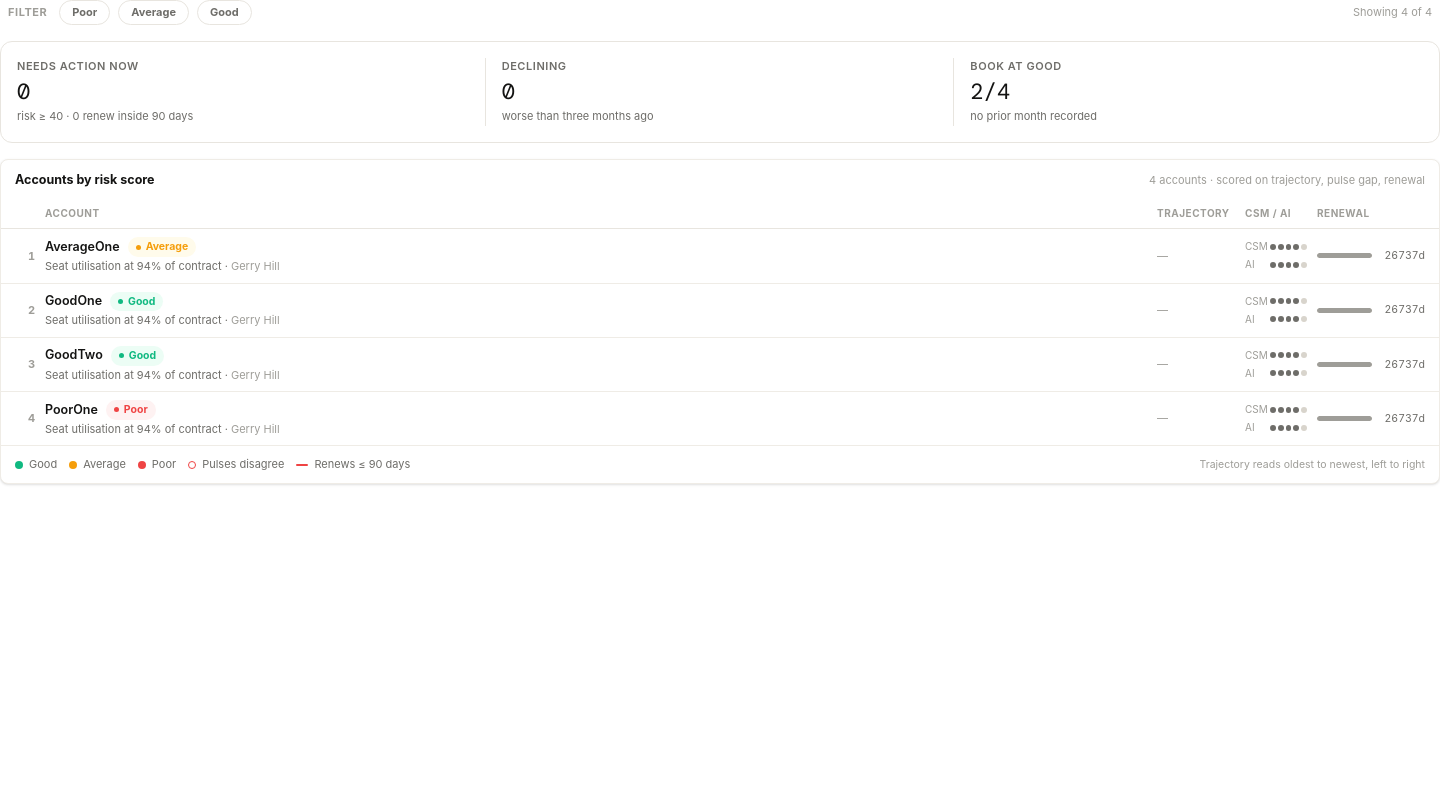
Test: TriageView drill › "Book at Good" opens exactly the accounts currently at Good
This screenshot has width=1440, height=810.
Click the button with aria-label "Book at Good 2/4, show accounts" at (1016, 66), box [966,54,1403,128]
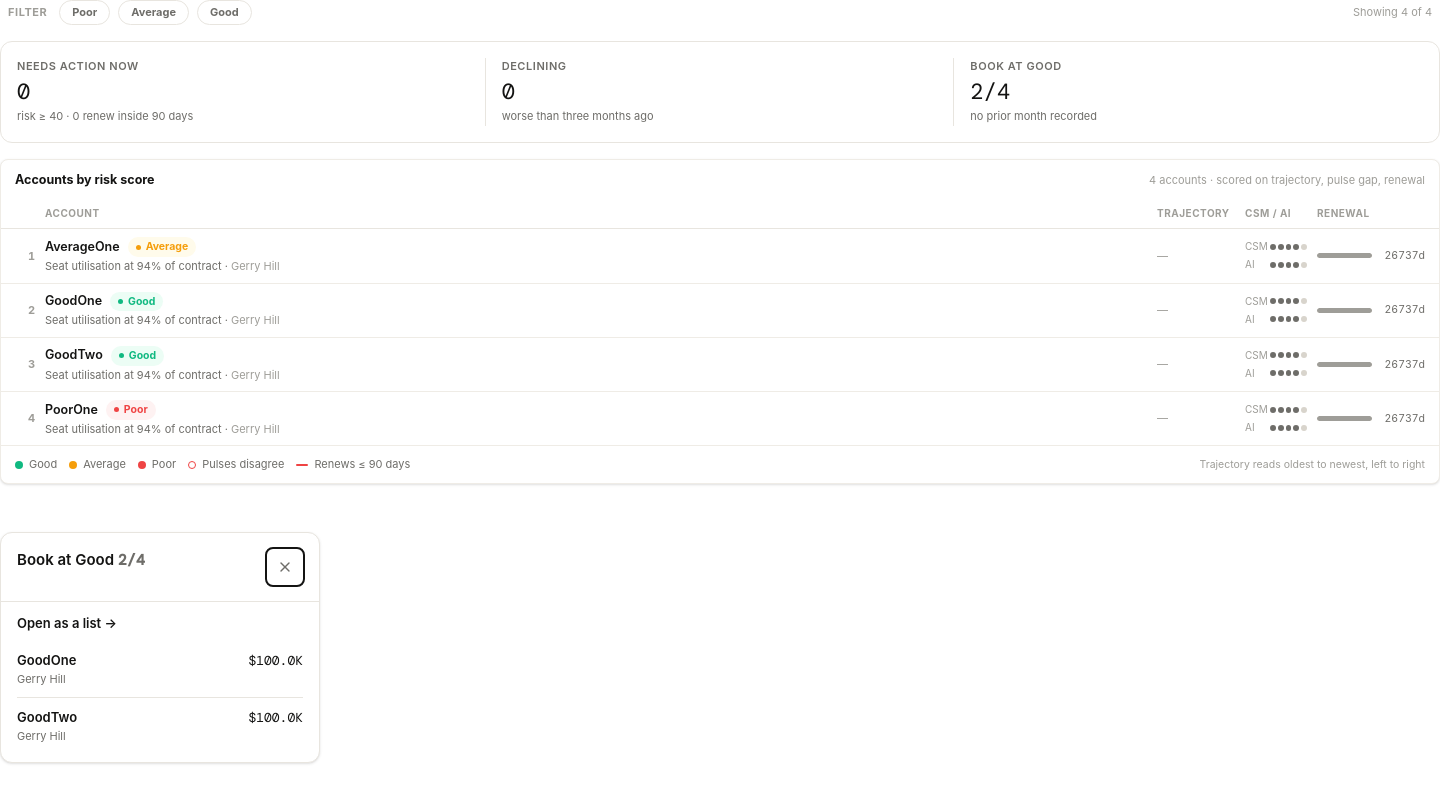
Expected: the link "GoodOne" is shown, [17,651,76,671]
Expected: the link "GoodTwo" is shown, [17,708,77,728]
